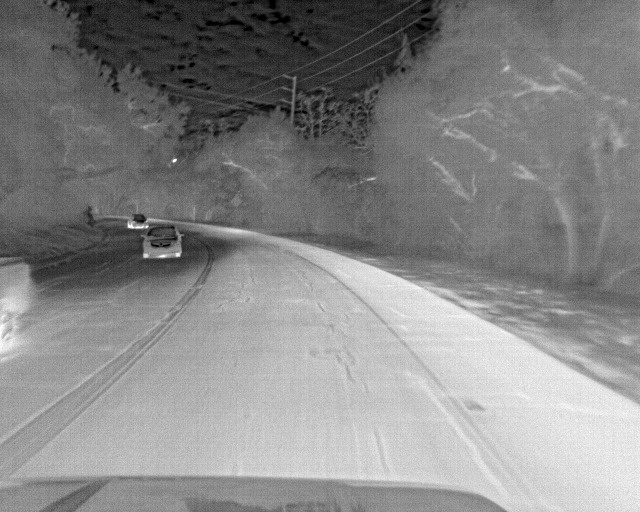vehicle: (141, 223, 183, 260), (128, 215, 147, 229)
